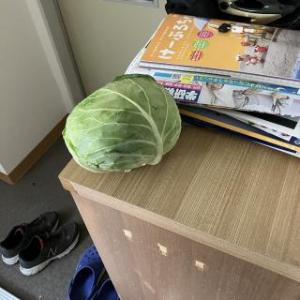cabbage: (61, 74, 183, 176)
